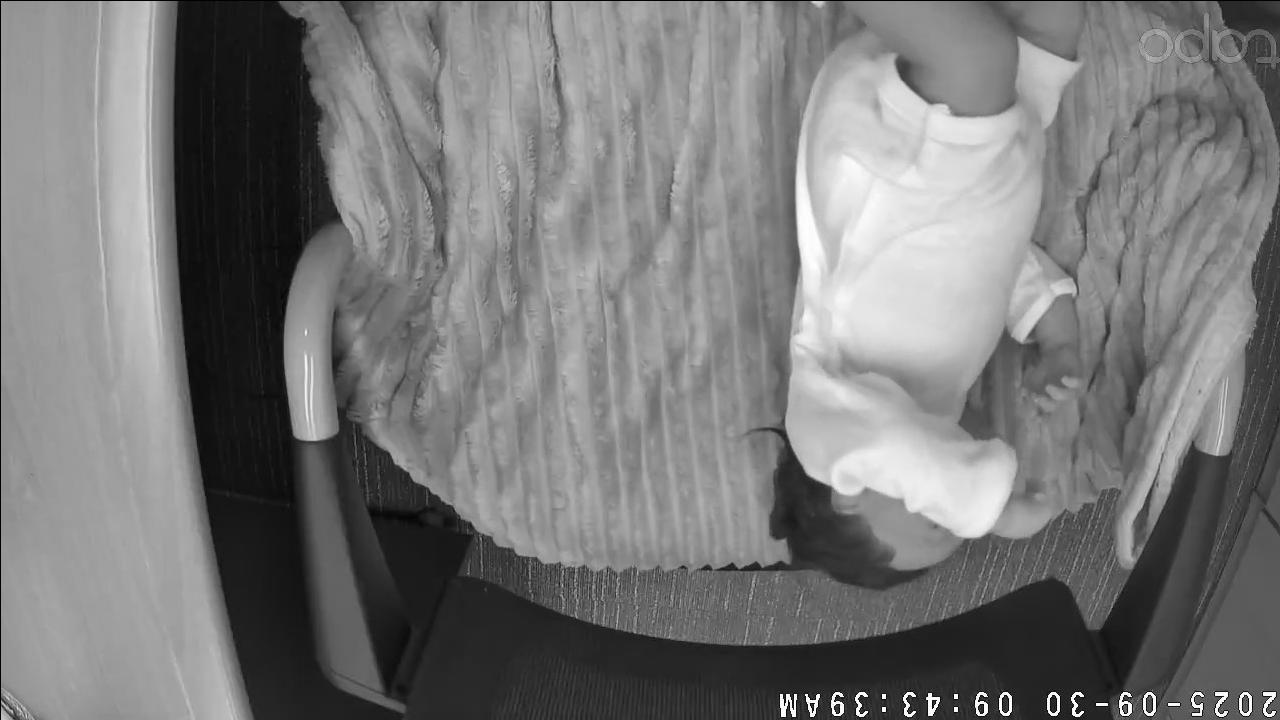hand: (1016, 344, 1087, 423), (1005, 478, 1054, 541)
